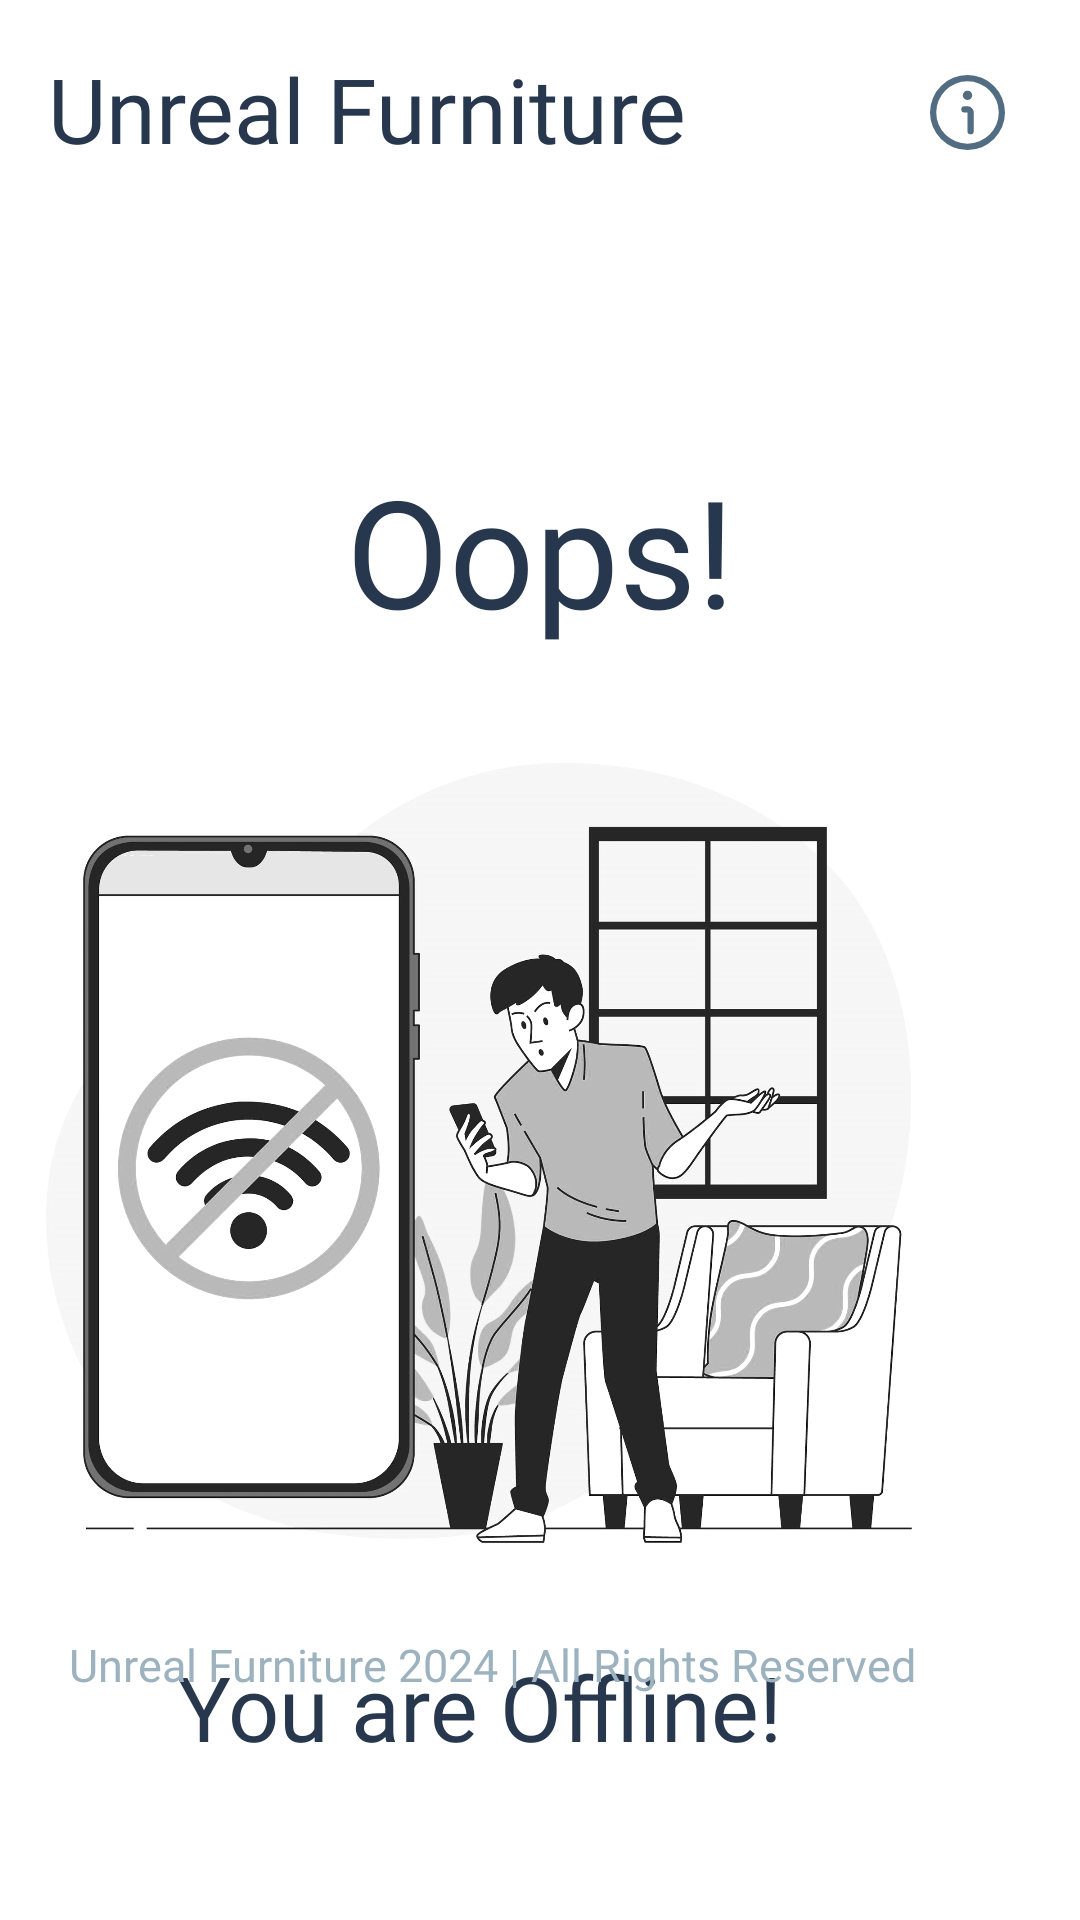

Named icons in this screenshot (1080px x 1920px) and their bounding boxes, (x1, y1, x2, y2):
info: (930, 75, 1005, 150)
